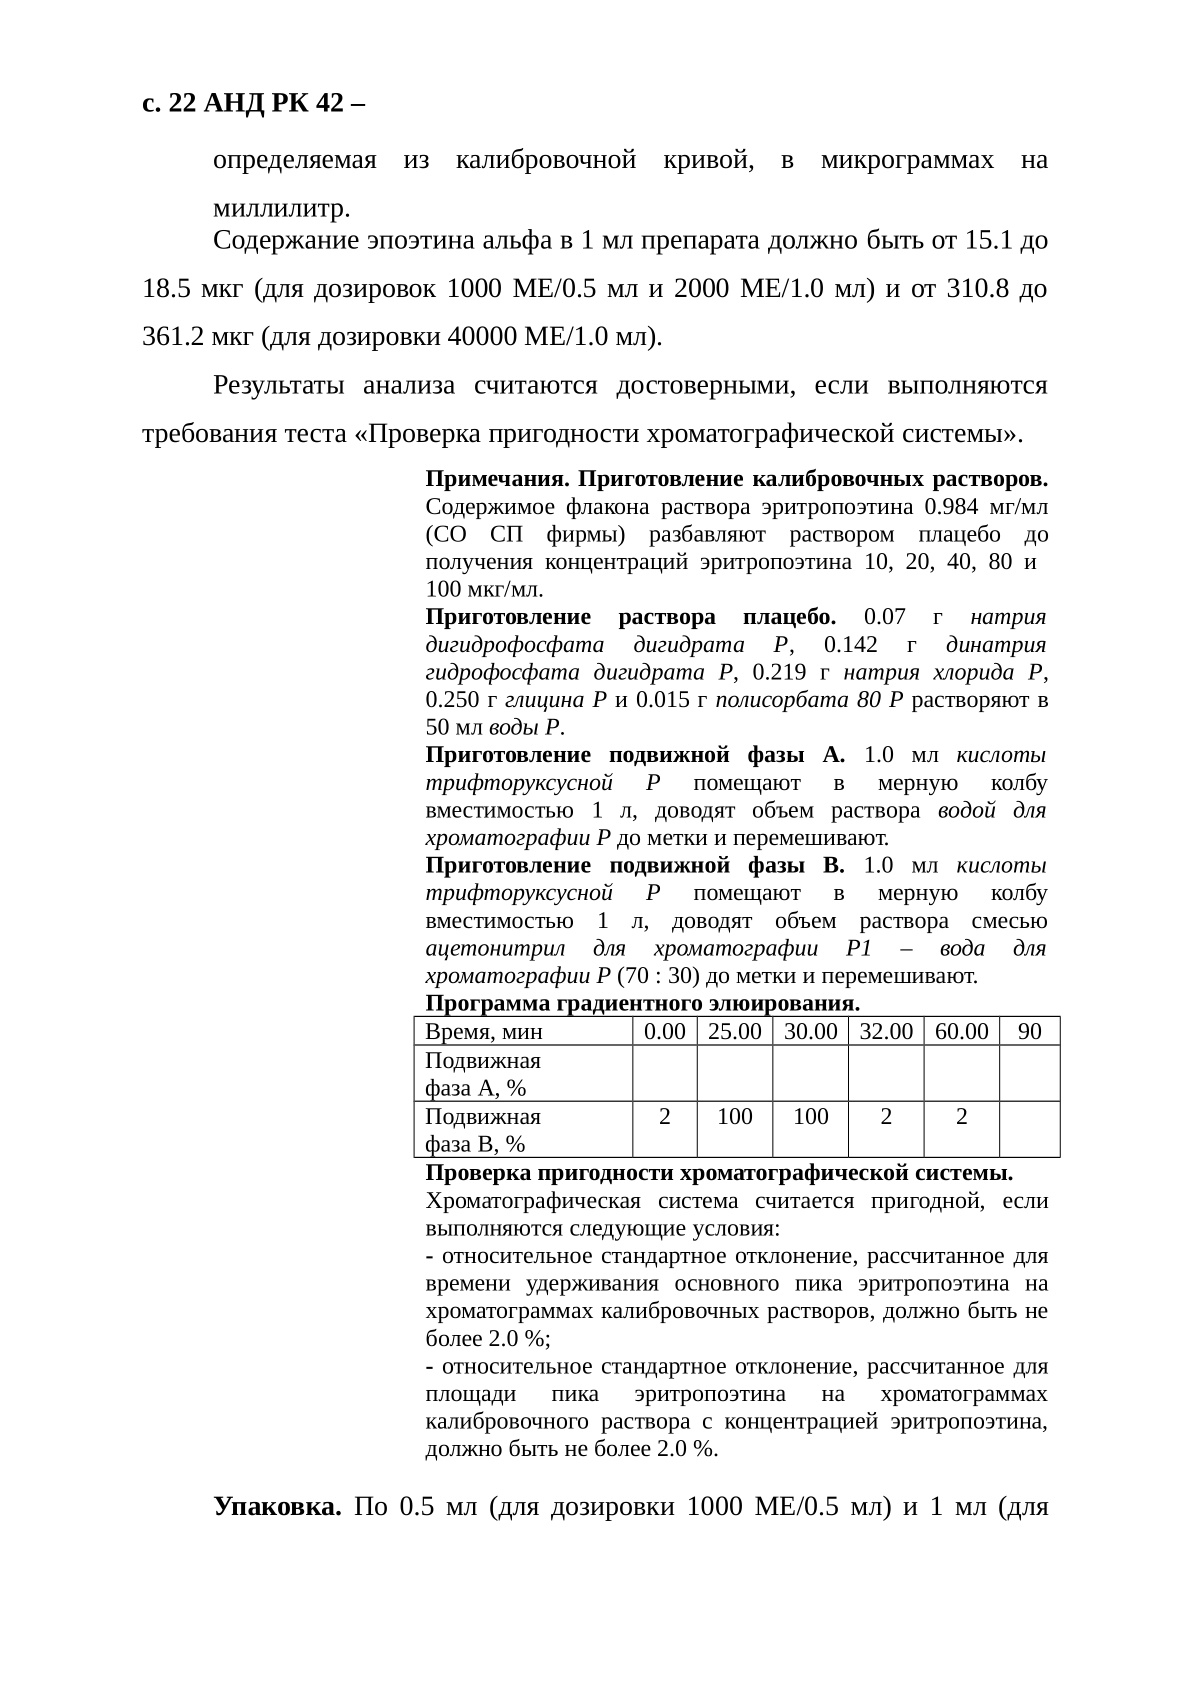full_lined: (412, 1015, 1062, 1159)
